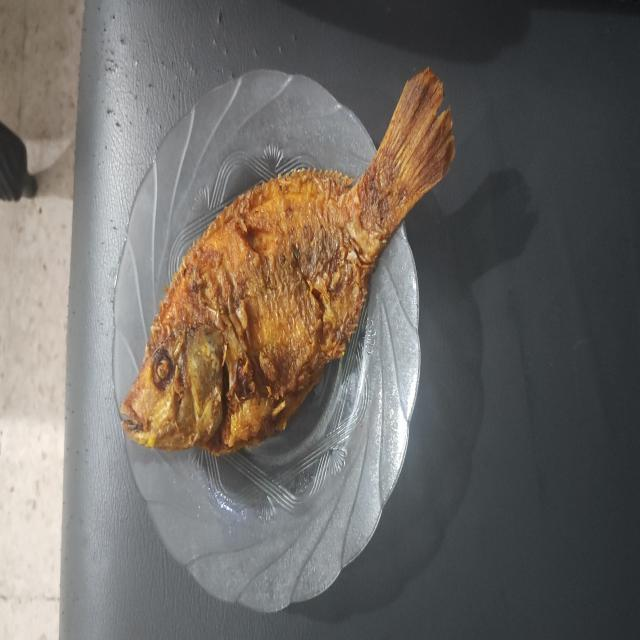ikan_mujair: (120, 68, 454, 455)
